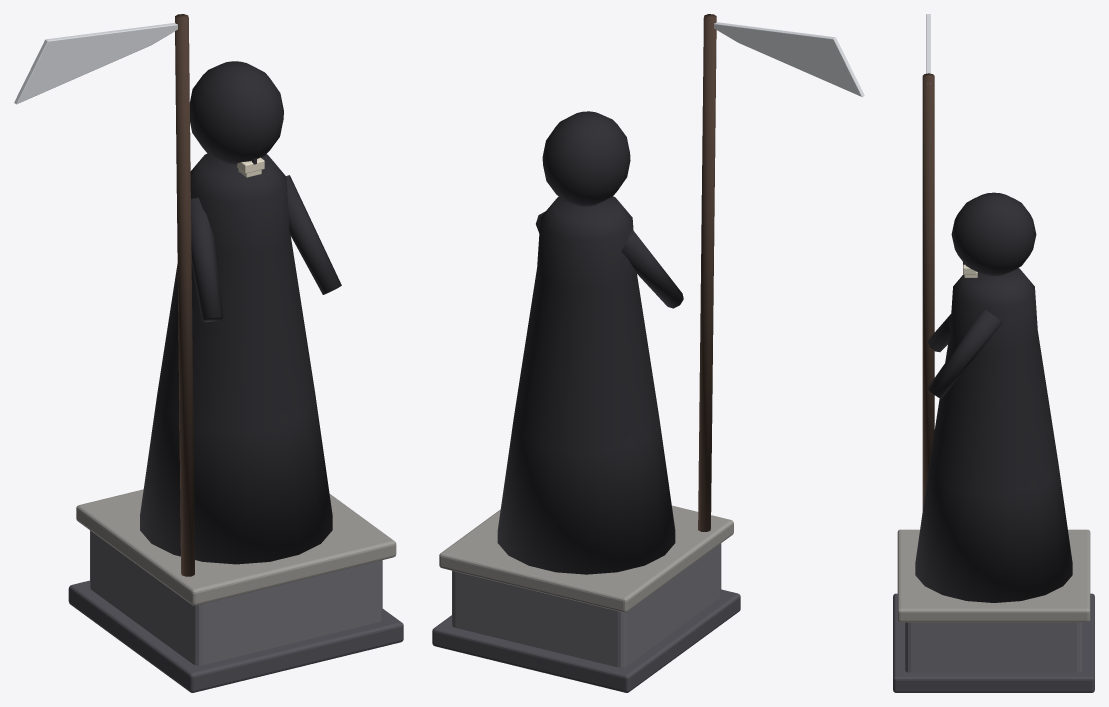
Rendered from statue_reaper.glb.
3 renders of one model, left to right at view 1: azimuth 30°, elevation 25°; view 2: azimuth 150°, elevation 25°; view 3: azimuth 270°, elevation 25°, orthographic. The views are drawn at different scales.
Parts seen in each view (by area): view 1: GD_statue_reaper__m2, GD_statue_reaper__m0, GD_statue_reaper__m7, GD_statue_reaper__m1, GD_statue_reaper__m5, GD_statue_reaper__m6; view 2: GD_statue_reaper__m2, GD_statue_reaper__m0, GD_statue_reaper__m7, GD_statue_reaper__m1, GD_statue_reaper__m5, GD_statue_reaper__m6; view 3: GD_statue_reaper__m2, GD_statue_reaper__m0, GD_statue_reaper__m7, GD_statue_reaper__m1, GD_statue_reaper__m5.
Part boxes in pixels (x1,y1,x2,y2): GD_statue_reaper__m2: [140, 61, 341, 564]; GD_statue_reaper__m0: [90, 530, 382, 665]; GD_statue_reaper__m7: [76, 489, 396, 605]; GD_statue_reaper__m1: [68, 580, 403, 692]; GD_statue_reaper__m5: [175, 14, 194, 576]; GD_statue_reaper__m6: [14, 23, 177, 104]; GD_statue_reaper__m2: [497, 111, 683, 574]; GD_statue_reaper__m0: [452, 543, 721, 667]; GD_statue_reaper__m7: [439, 505, 733, 612]; GD_statue_reaper__m1: [432, 589, 740, 692]; GD_statue_reaper__m5: [698, 14, 716, 531]; GD_statue_reaper__m6: [714, 22, 864, 96]; GD_statue_reaper__m2: [915, 192, 1072, 602]; GD_statue_reaper__m0: [905, 622, 1082, 672]; GD_statue_reaper__m7: [897, 529, 1090, 622]; GD_statue_reaper__m1: [893, 593, 1094, 692]; GD_statue_reaper__m5: [922, 73, 934, 509].
Bounding box in the file's own units: 1.17 × 2.03 × 0.68.
